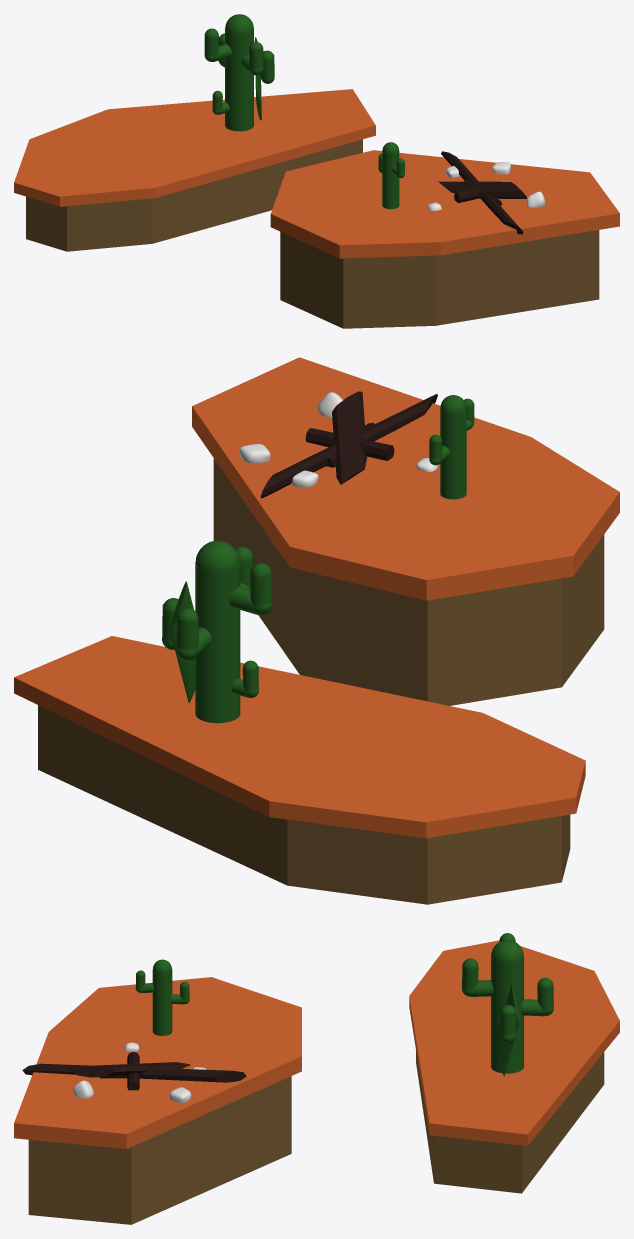
The model's file is ile_petite_canyon_2.fbx.
3 renders of one model, top to bottom at view 1: azimuth 30°, elevation 25°; view 2: azimuth 150°, elevation 25°; view 3: azimuth 270°, elevation 25°, orthographic. The views are drawn at different scales.
Visible parts, largest first — view 1: Sable.001, Sable, Terre, Terre.001, Cactus, Cylinder.017, Cactus.002, Cylinder.016, Sphere; view 2: Sable.001, Sable, Terre, Terre.001, Cactus, Cylinder.017, Cylinder.016, Cactus.002, Sphere, Cylinder.008, Cylinder.022; view 3: Sable, Sable.001, Terre, Terre.001, Cactus, Cylinder.016, Cactus.002, Cylinder.017, Cylinder.008, Sphere.
Boxes of the visible parts, x1,y1,x2,y2 form: Sable.001: (14,89,375,206); Sable: (270,150,619,258); Terre: (280,230,599,328); Terre.001: (26,139,362,251); Cactus: (225,28,253,131); Cylinder.017: (439,181,526,198); Cactus.002: (382,150,399,209); Cylinder.016: (441,151,523,234); Sphere: (225,14,253,34); Sable.001: (14,636,585,838); Sable: (192,357,619,600); Terre: (213,458,604,705); Terre.001: (38,705,570,904); Cactus: (195,562,240,723); Cylinder.017: (332,391,367,484); Cylinder.016: (260,394,437,498); Cactus.002: (440,407,466,499); Sphere: (195,540,239,572); Cylinder.008: (170,581,195,702); Cylinder.022: (305,428,394,460); Sable: (14,977,301,1148); Sable.001: (409,940,619,1145); Terre: (28,1076,291,1224); Terre.001: (416,1051,604,1193); Cactus: (491,955,523,1073); Cylinder.016: (22,1063,246,1082); Cactus.002: (152,969,172,1035); Cylinder.017: (74,1062,190,1077); Cylinder.008: (497,983,519,1076); Sphere: (491,940,523,963).
Size of the model in its own units: 2044 by 797 by 2286.
